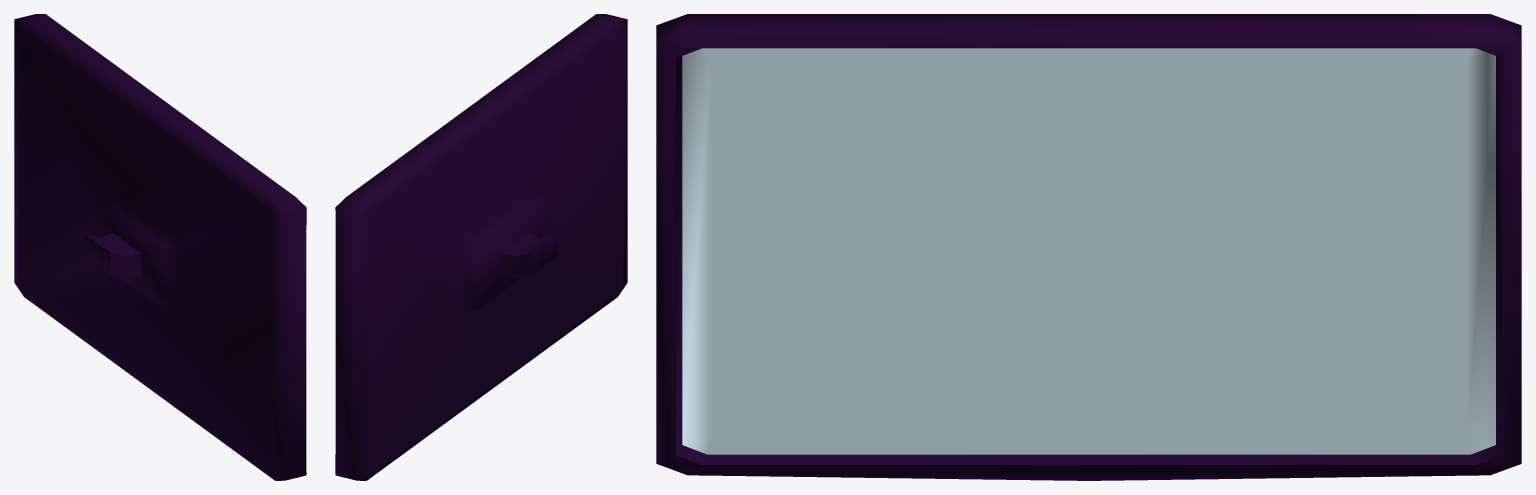
The model's file is TV_Wall.fbx.
The picture shows the model from 3 angles, left to right: view 1: azimuth 30°, elevation 25°; view 2: azimuth 150°, elevation 25°; view 3: azimuth 270°, elevation 25°; orthographic projection. The views are drawn at different scales.
Visible parts, largest first — view 1: TV_Wall; view 2: TV_Wall; view 3: TV_Wall.
Boxes of the visible parts, x1,y1,x2,y2 form: TV_Wall: (14, 14, 306, 480); TV_Wall: (335, 14, 627, 480); TV_Wall: (656, 14, 1521, 480).
Size of the model in its own units: 200 by 692 by 1201.
